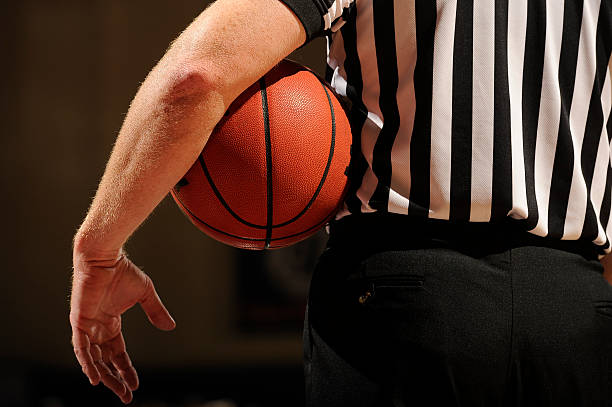b_ball: (173, 72, 358, 246)
referee: (64, 1, 612, 407)
